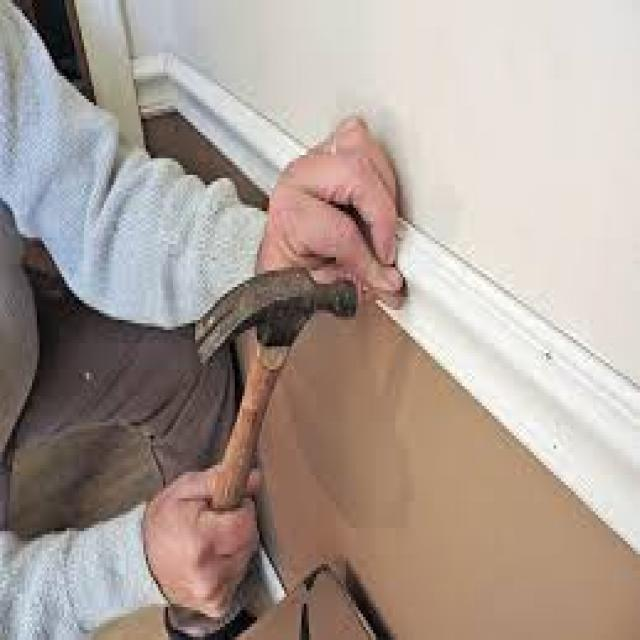hammer: (186, 248, 368, 638)
